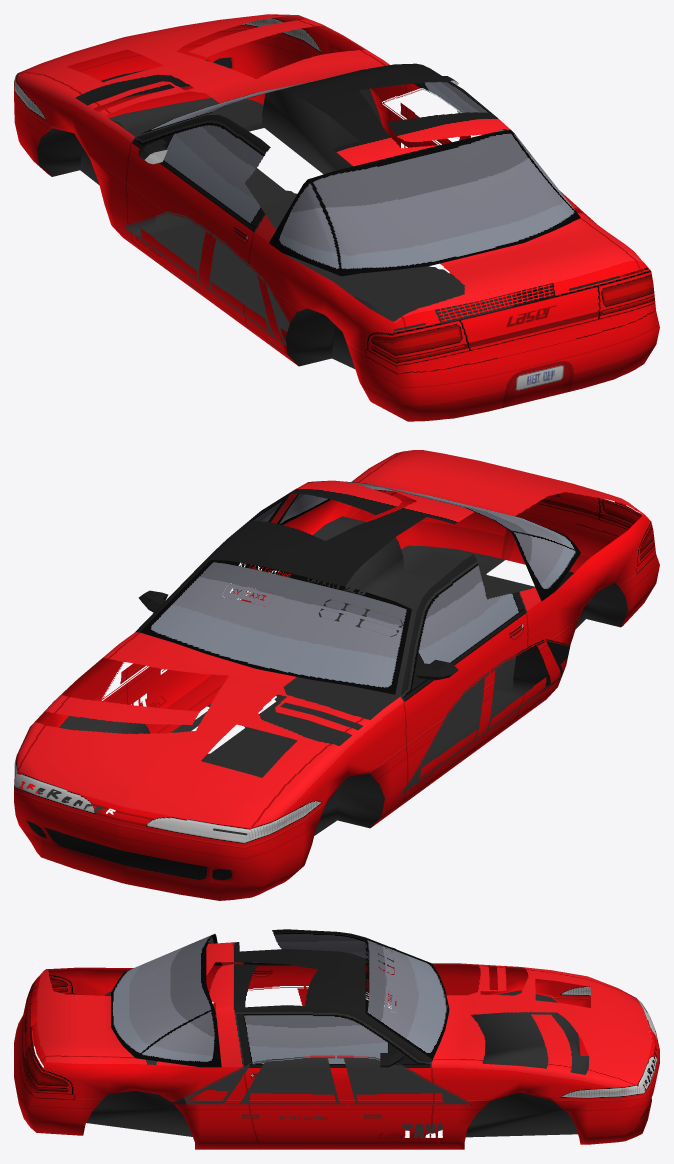
File: 90laser.fbx
3 views of the same model, one above another, from view 1: azimuth 30°, elevation 25°; view 2: azimuth 150°, elevation 25°; view 3: azimuth 270°, elevation 25° (orthographic). The views are drawn at different scales.
Visible parts, largest first — view 1: 90laser; view 2: 90laser; view 3: 90laser.
Boxes of the visible parts, x1,y1,x2,y2 form: 90laser: (14, 14, 659, 421); 90laser: (14, 450, 659, 900); 90laser: (14, 929, 659, 1149).
Size of the model in its own units: 2 by 1.13 by 4.65.
